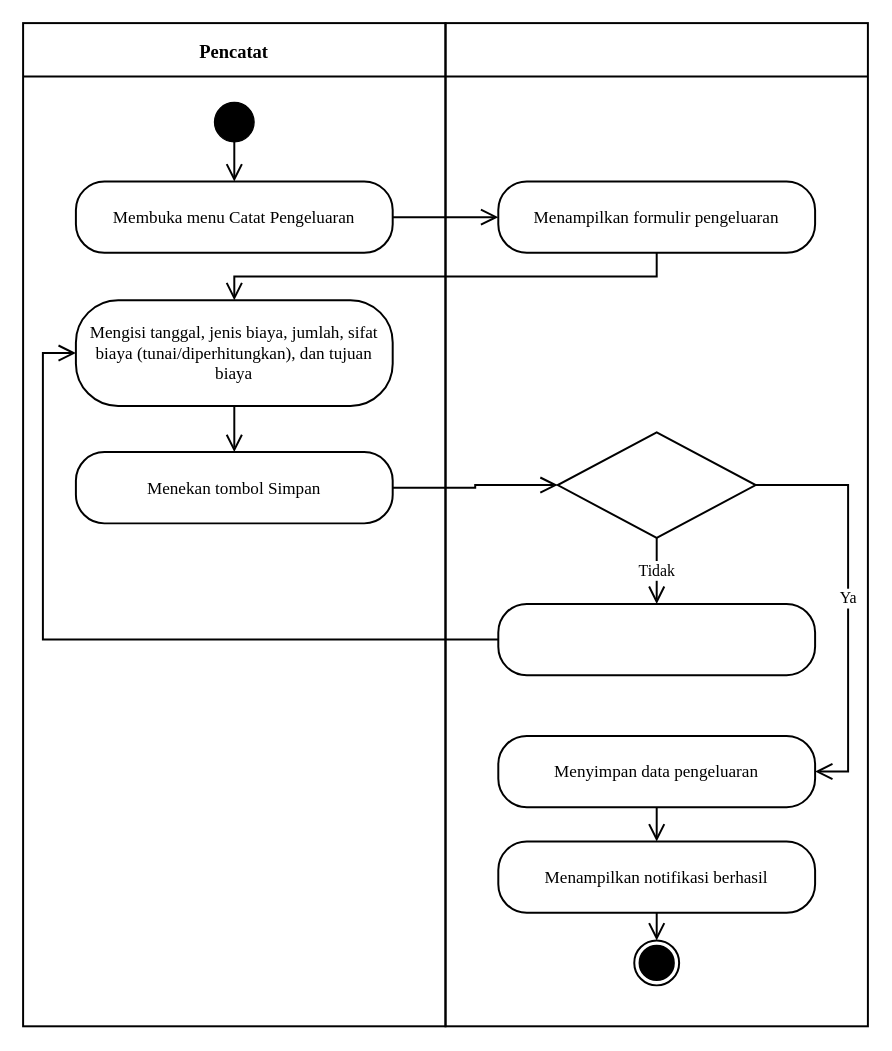
Image size: 892x1051. Some labels were removed from this diagram. Each missing label, with the box of its shape:
Data lengkap?: (556, 431, 756, 538)
Menampilkan pesan data belum lengkap: (497, 602, 815, 676)
Sistem: (444, 22, 868, 1027)
